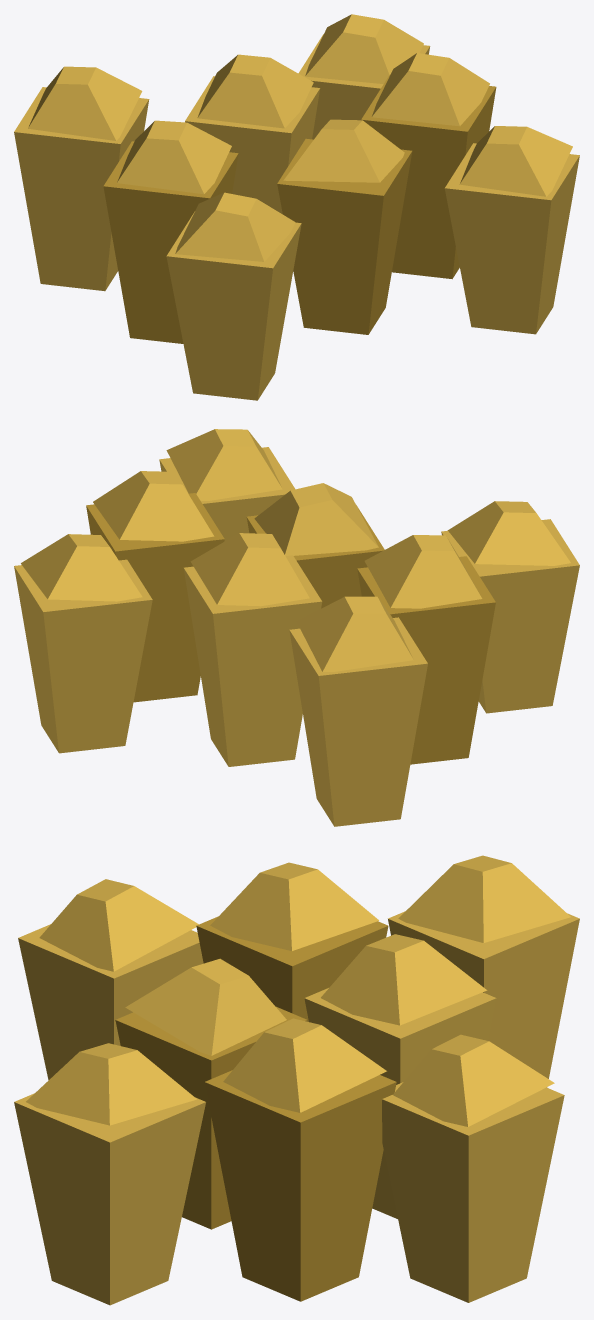
The model's file is crop_wheat_3.glb.
3 renders of one model, top to bottom at view 1: azimuth 30°, elevation 25°; view 2: azimuth 150°, elevation 25°; view 3: azimuth 270°, elevation 25°, orthographic. The views are drawn at different scales.
Parts seen in each view (by area): view 1: crop_wheat_3; view 2: crop_wheat_3; view 3: crop_wheat_3.
Part boxes in pixels (bbox=[...]): crop_wheat_3: bbox=[14, 14, 579, 400]; crop_wheat_3: bbox=[14, 429, 579, 826]; crop_wheat_3: bbox=[14, 855, 579, 1305].
Size of the model in its own units: 2.02 by 0.9577 by 1.94.
